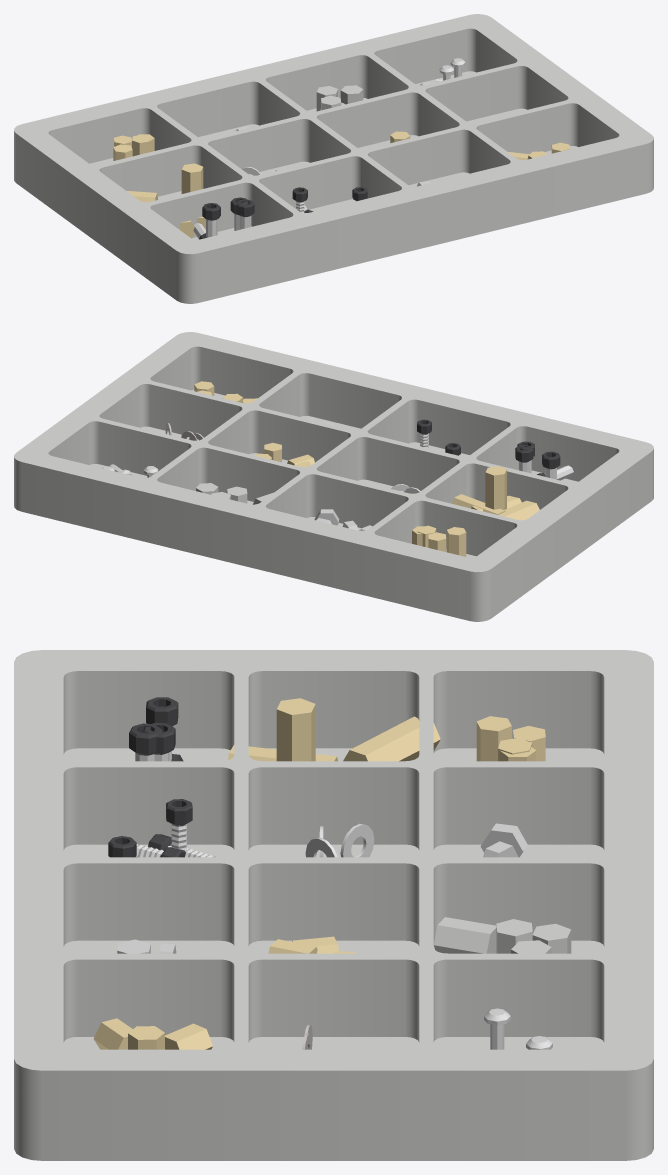
File: fasteners_kit.glb
3 views of the same model, one above another, from view 1: azimuth 30°, elevation 25°; view 2: azimuth 150°, elevation 25°; view 3: azimuth 270°, elevation 25° (orthographic). The views are drawn at different scales.
Visible parts, largest first — view 1: fasteners_kit; view 2: fasteners_kit; view 3: fasteners_kit.
Boxes of the visible parts, x1,y1,x2,y2 form: fasteners_kit: [14, 14, 653, 303]; fasteners_kit: [14, 332, 653, 621]; fasteners_kit: [14, 650, 653, 1160].
Size of the model in its own units: 0.14 by 0.017 by 0.09.
